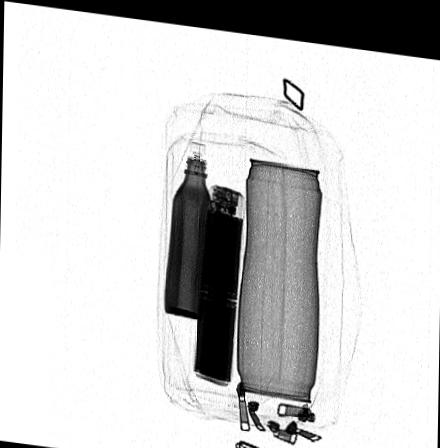Powerbank: (188, 177, 245, 382)
